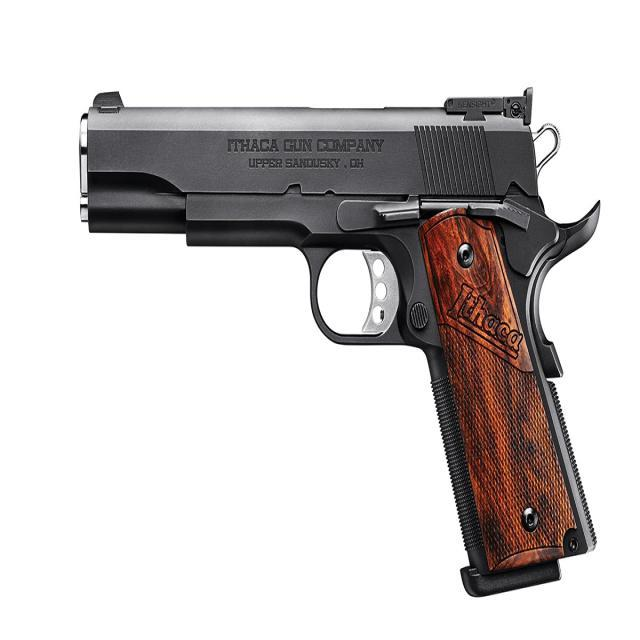Pistol: (57, 65, 616, 620)
